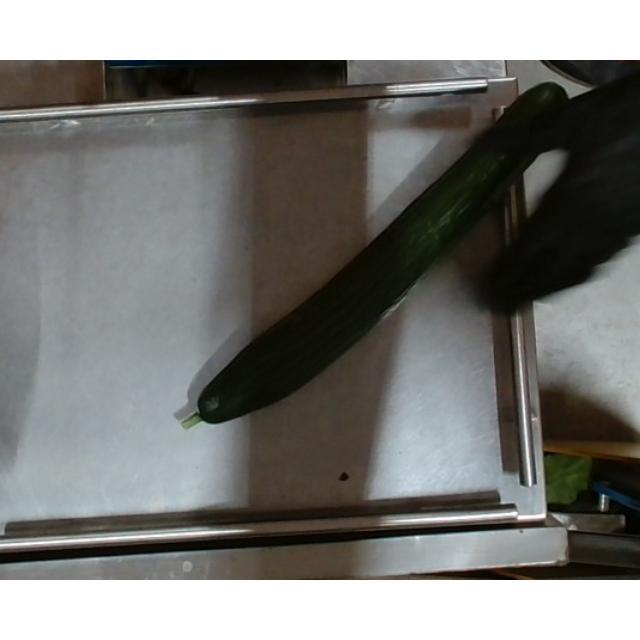cucumber: (182, 82, 570, 430)
